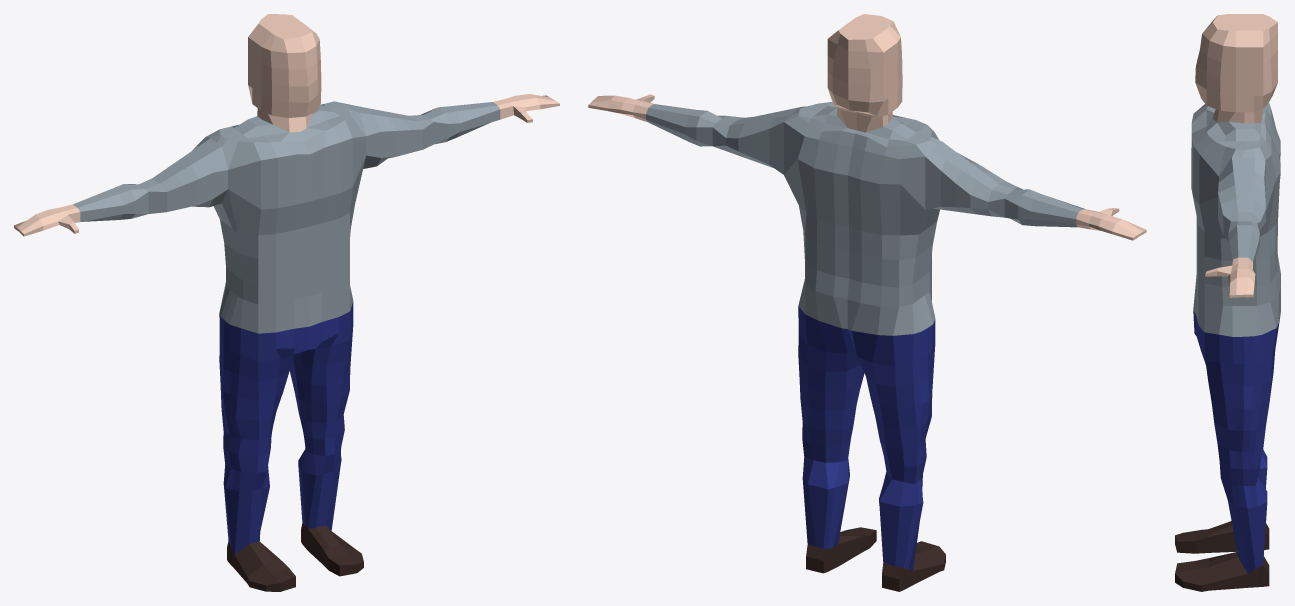
File: char04.glb
3 renders of one model, left to right at view 1: azimuth 30°, elevation 25°; view 2: azimuth 150°, elevation 25°; view 3: azimuth 270°, elevation 25°, orthographic. The views are drawn at different scales.
Parts seen in each view (by area): view 1: Cube; view 2: Cube; view 3: Cube.
Part boxes in pixels (<box>): Cube: <box>14,14,559,591</box>; Cube: <box>588,14,1146,591</box>; Cube: <box>1175,14,1280,591</box>.
Size of the model in its own units: 7.76 by 7.36 by 1.3.
Materials: 1 (1 with a texture image).
